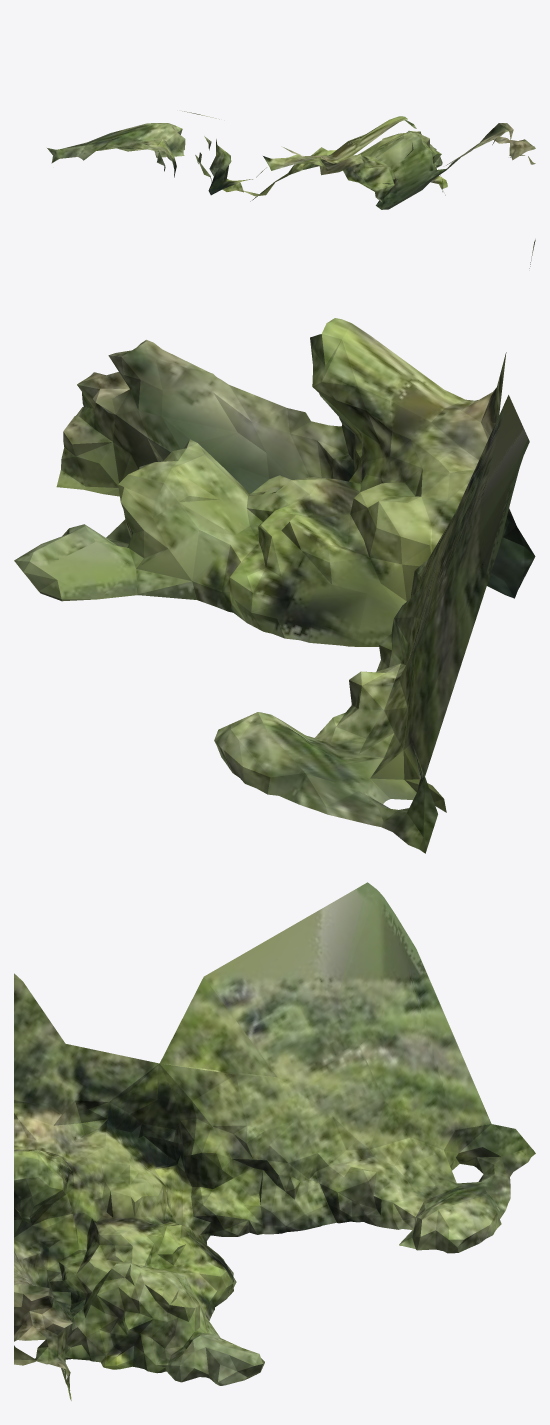
3 views of the same model, one above another, from view 1: azimuth 30°, elevation 25°; view 2: azimuth 150°, elevation 25°; view 3: azimuth 270°, elevation 25° (orthographic). The views are drawn at different scales.
Bounding box in the file's own units: 52.22 × 25.69 × 44.8.
2 materials, 2 textured.
